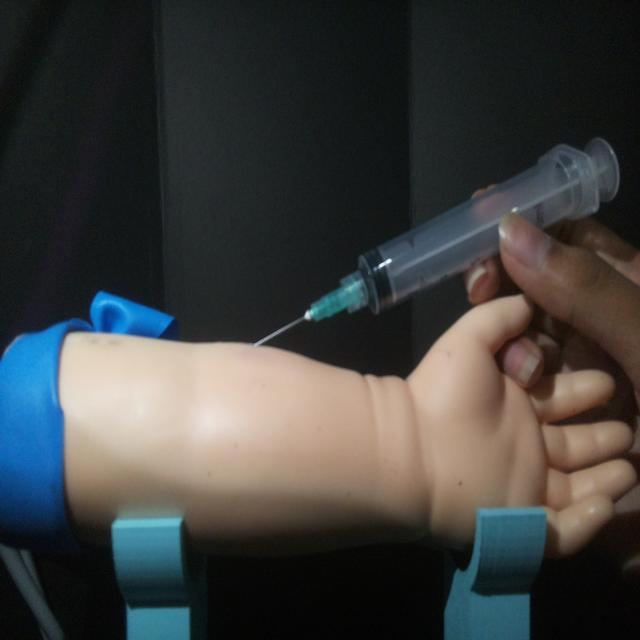25deg: (248, 130, 622, 352)
